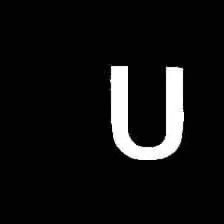LTR_U: (98, 54, 188, 166)
